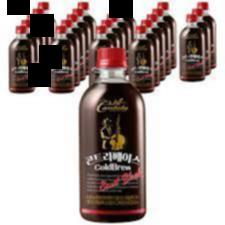contrabass_sweetblack: (77, 50, 149, 223), (178, 15, 206, 84), (50, 27, 77, 93), (8, 25, 33, 95)
